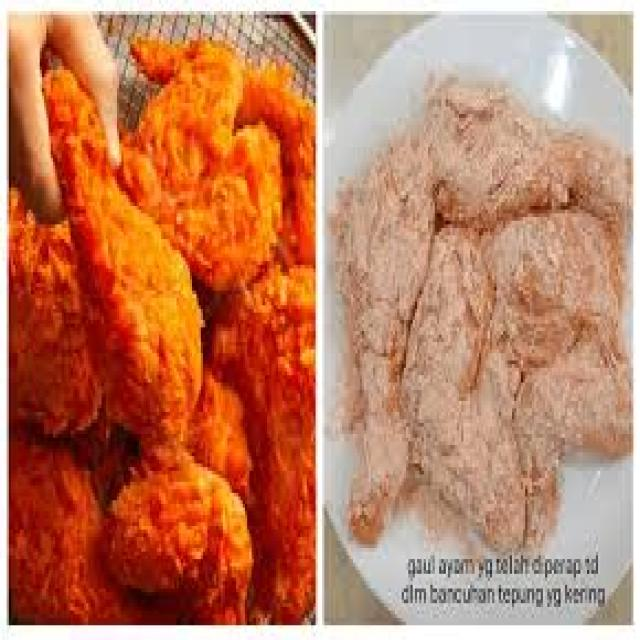Frango: (91, 59, 286, 305), (43, 118, 197, 424), (194, 248, 320, 604), (22, 217, 152, 459), (137, 417, 245, 625), (0, 437, 93, 640)
